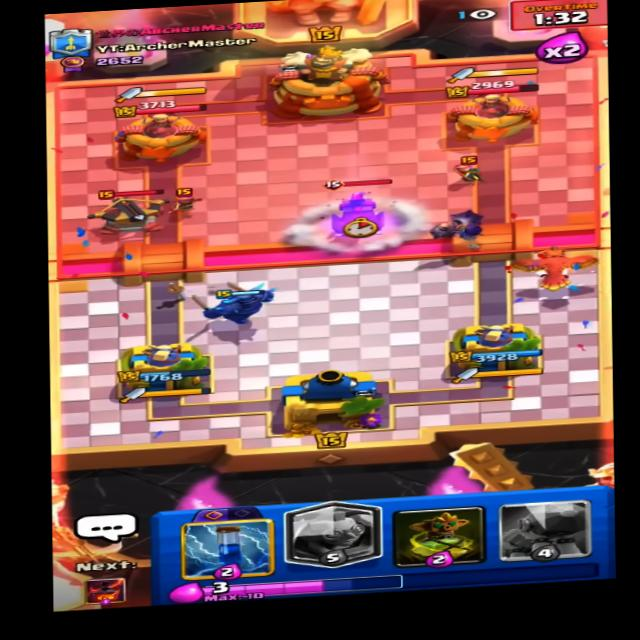archer: (450, 156, 485, 183), (168, 185, 201, 213)
evo-tesla: (314, 176, 401, 242)
x-bow: (88, 184, 174, 236)
